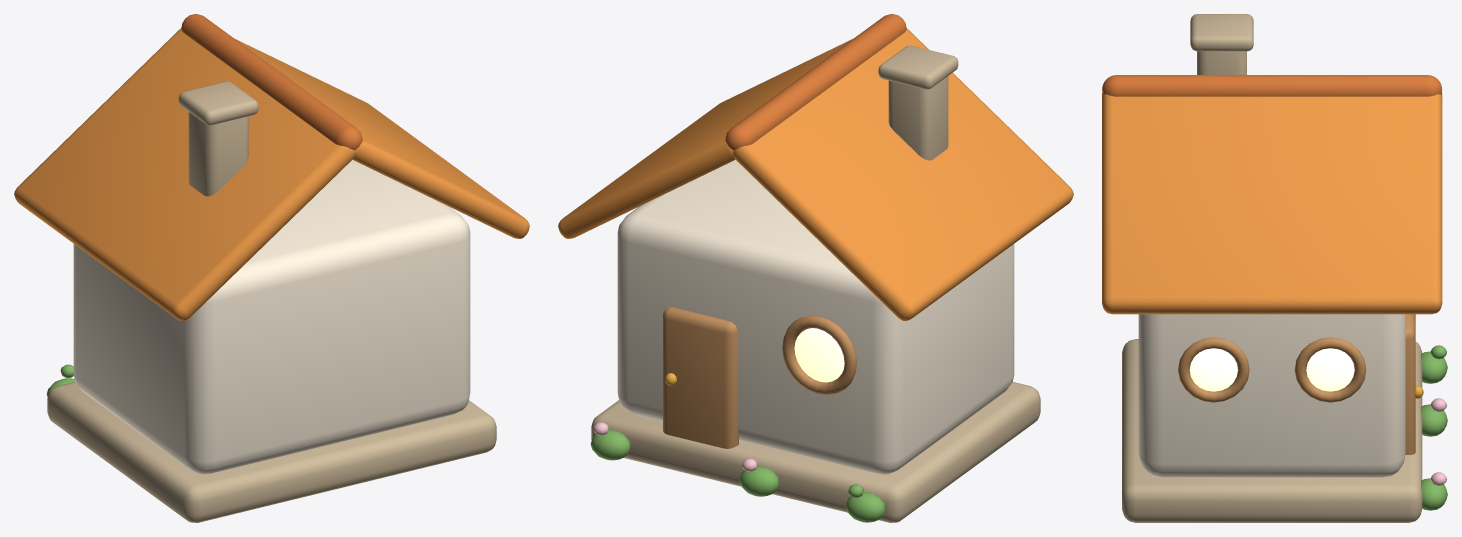
The model's file is ow_house.glb.
The picture shows the model from 3 angles, left to right: view 1: azimuth 30°, elevation 25°; view 2: azimuth 150°, elevation 25°; view 3: azimuth 270°, elevation 25°; orthographic projection.
Parts seen in each view (by area): view 1: OwHouse; view 2: OwHouse; view 3: OwHouse.
Part boxes in pixels (left/top/right/bottom): OwHouse: left=14, top=14, right=529, bottom=522; OwHouse: left=558, top=14, right=1073, bottom=522; OwHouse: left=1102, top=14, right=1447, bottom=522.
Bounding box in the file's own units: 2.51 × 2.55 × 2.07.
